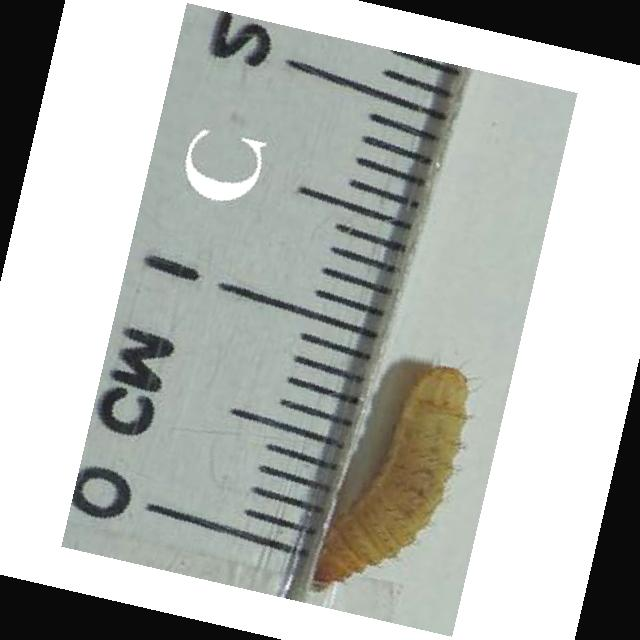Maggot: (304, 365, 472, 593)
